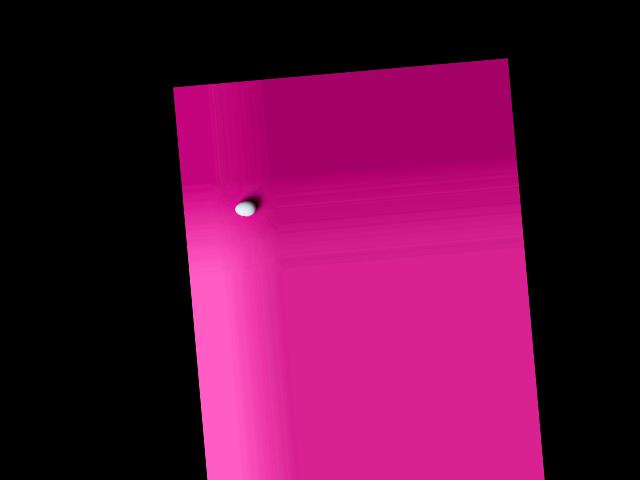egg: (234, 200, 256, 217)
